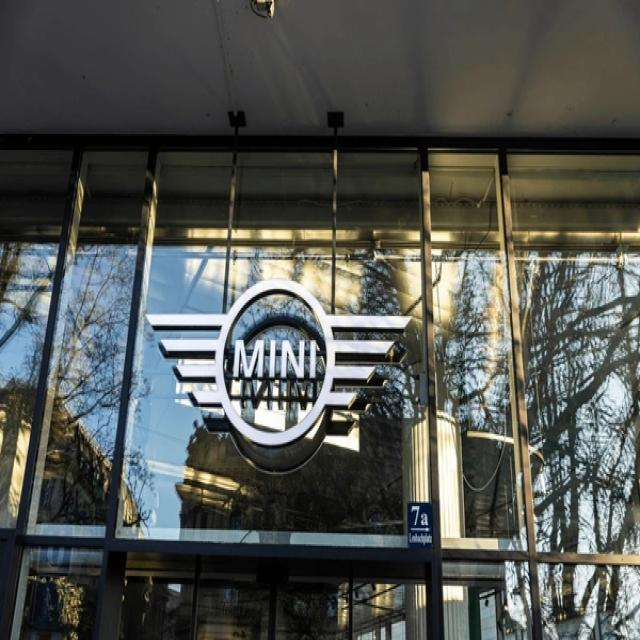mini: (148, 280, 416, 447)
